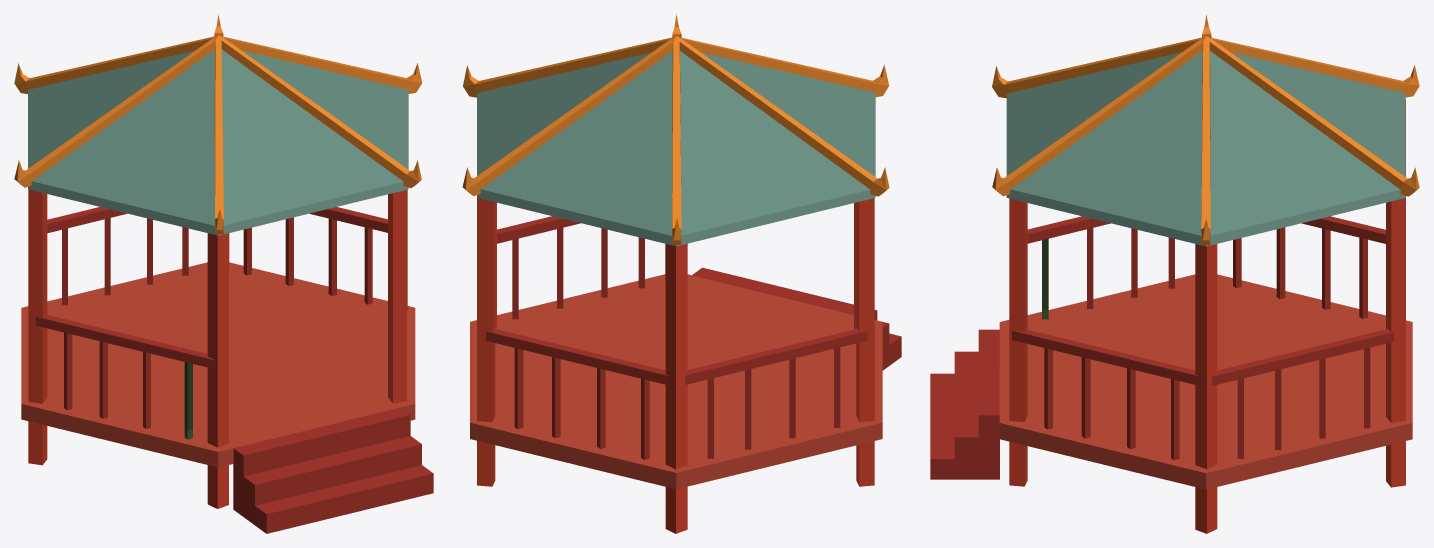
Rendered from ChinesePergola_01.glb.
The picture shows the model from 3 angles, left to right: view 1: azimuth 30°, elevation 25°; view 2: azimuth 150°, elevation 25°; view 3: azimuth 270°, elevation 25°; orthographic projection. The views are drawn at different scales.
Parts seen in each view (by area): view 1: ChinesePergola_01; view 2: ChinesePergola_01; view 3: ChinesePergola_01.
Part boxes in pixels (x1=…): ChinesePergola_01: x1=14, y1=14, x2=433, y2=533; ChinesePergola_01: x1=462, y1=14, x2=901, y2=533; ChinesePergola_01: x1=930, y1=14, x2=1419, y2=533.
Size of what is drawn, in the model's own units: 5.16 by 4.66 by 5.15.
1 material, 1 textured.
